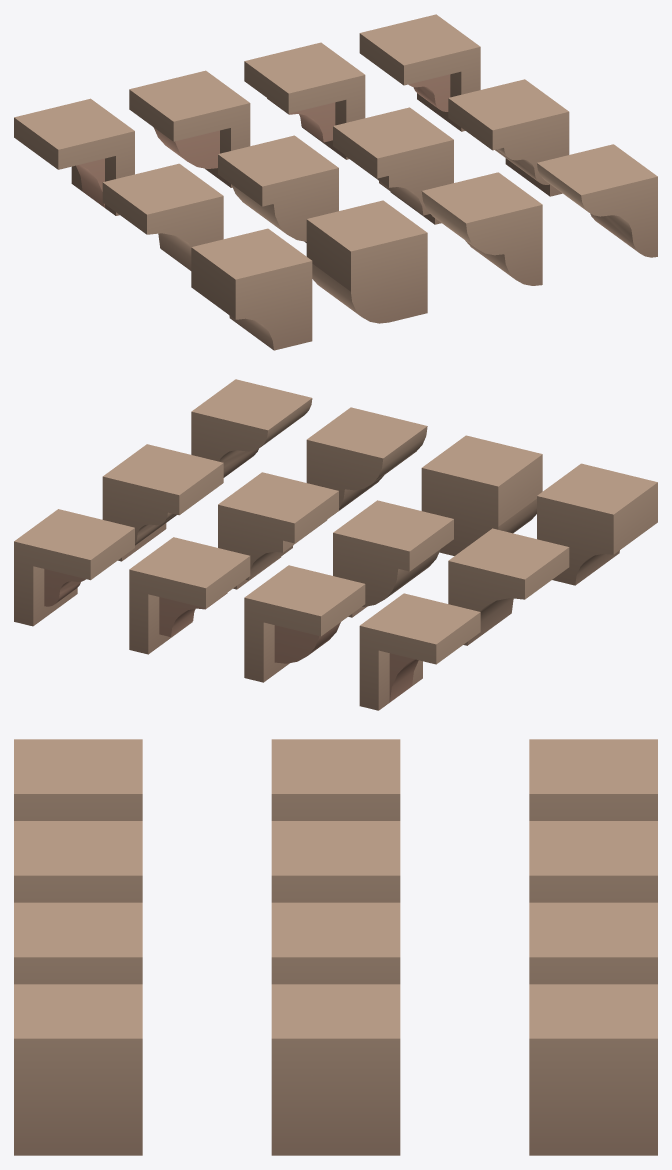
Rendered from studio-corners.glb.
3 views of the same model, one above another, from view 1: azimuth 30°, elevation 25°; view 2: azimuth 150°, elevation 25°; view 3: azimuth 270°, elevation 25° (orthographic). The views are drawn at different scales.
Visible parts, largest first — view 1: corner-large-b, corner-large-a, corner-large-c, corner-basic-b, corner-detailed-b, corner-basic-d, corner-basic-c, corner-basic-e, corner-detailed-c (%thumbnail), corner-detailed-d, corner-detailed-a, corner-basic-a; view 2: corner-large-b, corner-large-a, corner-detailed-b, corner-detailed-c (%thumbnail), corner-detailed-a, corner-detailed-d, corner-basic-b, corner-basic-c, corner-basic-d, corner-basic-a, corner-large-c, corner-basic-e; view 3: corner-basic-d, corner-basic-e, corner-detailed-d, corner-basic-c, corner-detailed-c (%thumbnail), corner-large-c, corner-basic-a, corner-basic-b, corner-detailed-a, corner-detailed-b, corner-large-a, corner-large-b.
Part boxes in pixels (x1=…): corner-large-b: x1=306, y1=200, x2=427, y2=323; corner-large-a: x1=191, y1=228, x2=312, y2=350; corner-large-c: x1=421, y1=172, x2=542, y2=285; corner-basic-b: x1=218, y1=135, x2=338, y2=242; corner-detailed-b: x1=129, y1=70, x2=250, y2=187; corner-basic-d: x1=448, y1=79, x2=569, y2=196; corner-basic-c: x1=333, y1=107, x2=453, y2=224; corner-basic-e: x1=537, y1=144, x2=657, y2=257; corner-detailed-c (%thumbnail): x1=244, y1=42, x2=365, y2=159; corner-detailed-d: x1=359, y1=14, x2=480, y2=131; corner-detailed-a: x1=14, y1=98, x2=134, y2=215; corner-basic-a: x1=102, y1=163, x2=223, y2=270; corner-large-b: x1=421, y1=435, x2=542, y2=555; corner-large-a: x1=537, y1=463, x2=657, y2=585; corner-detailed-b: x1=244, y1=565, x2=365, y2=682; corner-detailed-c (%thumbnail): x1=129, y1=537, x2=250, y2=654; corner-detailed-a: x1=359, y1=593, x2=480, y2=710; corner-detailed-d: x1=14, y1=509, x2=134, y2=626; corner-basic-b: x1=333, y1=500, x2=453, y2=617; corner-basic-c: x1=218, y1=472, x2=338, y2=589; corner-basic-d: x1=102, y1=444, x2=223, y2=561; corner-basic-a: x1=448, y1=528, x2=569, y2=645; corner-large-c: x1=306, y1=407, x2=427, y2=510; corner-basic-e: x1=191, y1=379, x2=312, y2=477; corner-basic-d: x1=271, y1=984, x2=400, y2=1155; corner-basic-e: x1=14, y1=984, x2=142, y2=1155; corner-detailed-d: x1=529, y1=984, x2=657, y2=1155; corner-basic-c: x1=271, y1=902, x2=400, y2=984; corner-detailed-c (%thumbnail): x1=529, y1=902, x2=657, y2=984; corner-large-c: x1=14, y1=902, x2=142, y2=984; corner-basic-a: x1=271, y1=739, x2=400, y2=820; corner-basic-b: x1=271, y1=821, x2=400, y2=902; corner-detailed-a: x1=529, y1=739, x2=657, y2=820; corner-detailed-b: x1=529, y1=821, x2=657, y2=902; corner-large-a: x1=14, y1=739, x2=142, y2=820; corner-large-b: x1=14, y1=821, x2=142, y2=902.
Bounding box in the file's own units: 1.1 × 0.2 × 1.
